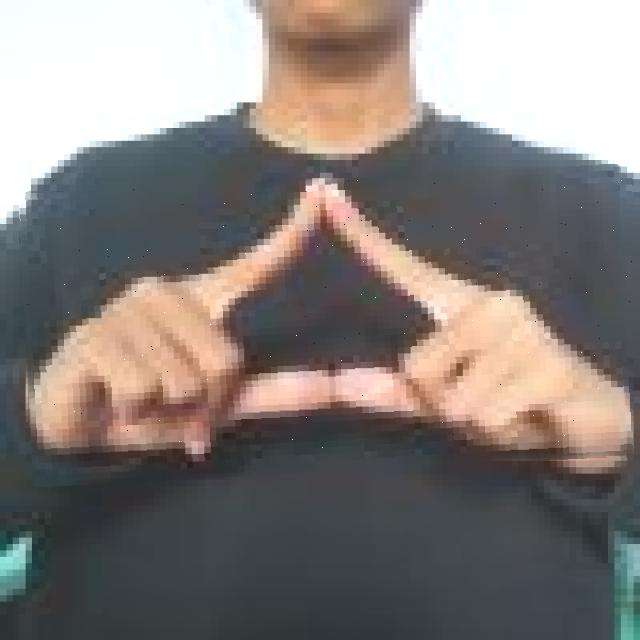A: (29, 178, 632, 457)
